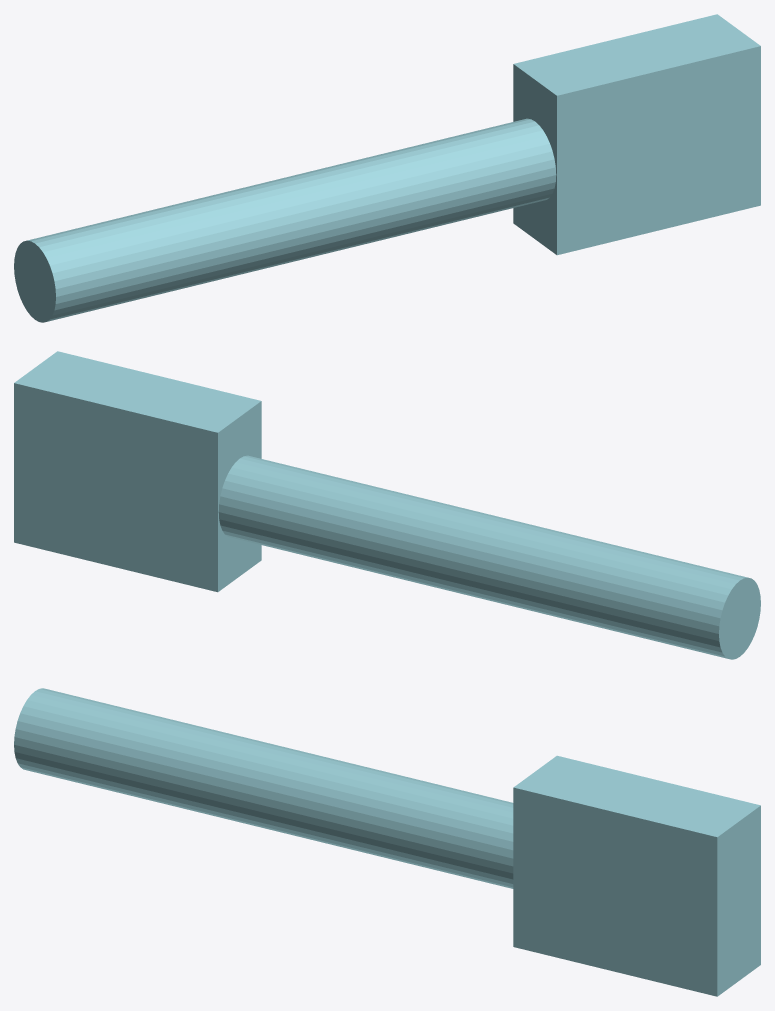
Rendered from cylinder_spatula_v6016.obj.
3 renders of one model, top to bottom at view 1: azimuth 30°, elevation 25°; view 2: azimuth 150°, elevation 25°; view 3: azimuth 330°, elevation 25°, orthographic.
Bounding box in the file's own units: 0.2535 × 0.0549 × 0.0272.
Materials: 1 (1 with a texture image).
